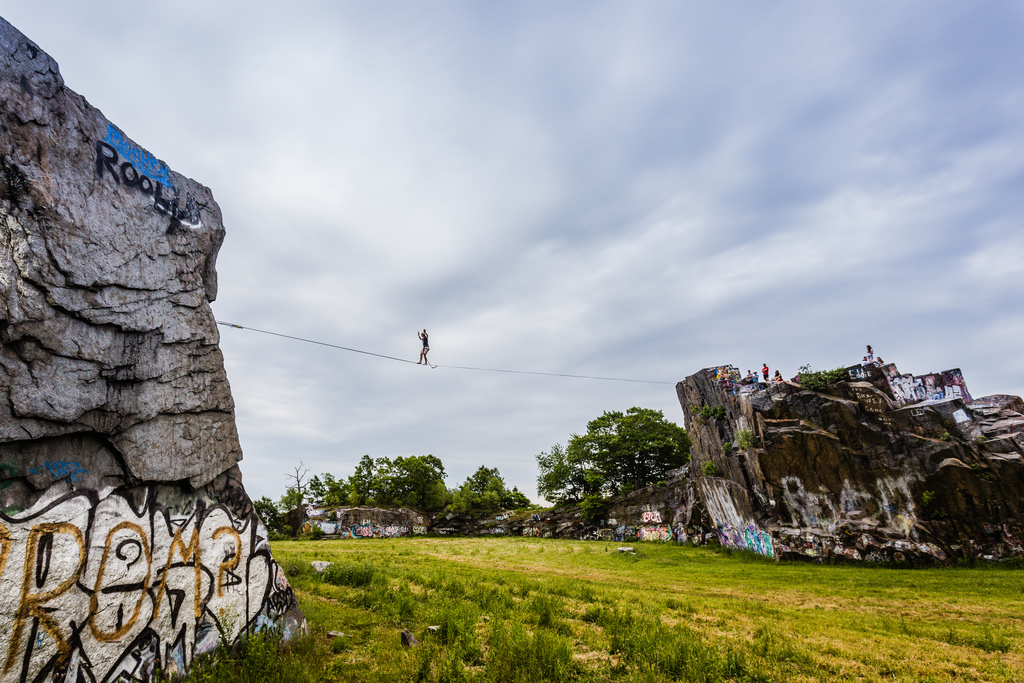Tree: (254, 452, 542, 545), (538, 395, 699, 529)
